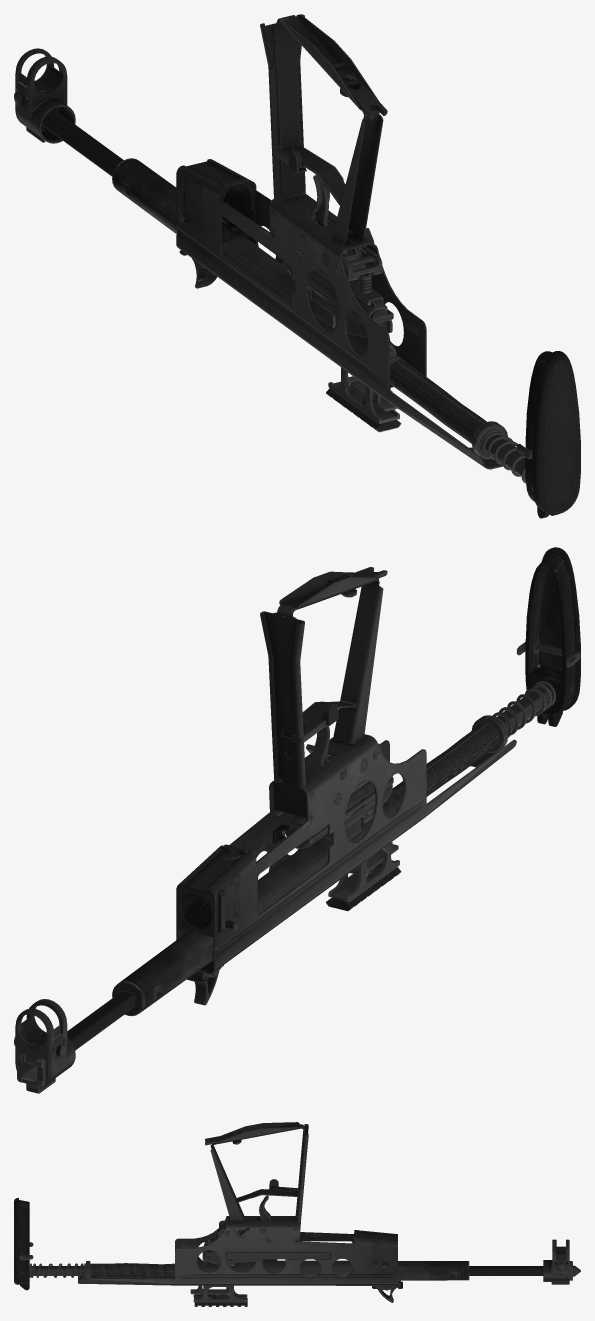
3 renders of one model, top to bottom at view 1: azimuth 30°, elevation 25°; view 2: azimuth 150°, elevation 25°; view 3: azimuth 270°, elevation 25°, orthographic. The views are drawn at different scales.
Visible parts, largest first — view 1: TW_67124dcfa3541f2a1f0e788b_PZ_Import; view 2: TW_67124dcfa3541f2a1f0e788b_PZ_Import; view 3: TW_67124dcfa3541f2a1f0e788b_PZ_Import.
Boxes of the visible parts, x1,y1,x2,y2 form: TW_67124dcfa3541f2a1f0e788b_PZ_Import: (14,14,580,518); TW_67124dcfa3541f2a1f0e788b_PZ_Import: (14,547,580,1093); TW_67124dcfa3541f2a1f0e788b_PZ_Import: (14,1122,580,1306).
Size of the model in its own units: 0.0284 by 0.4541 by 0.1588.
1 material, 1 textured.
